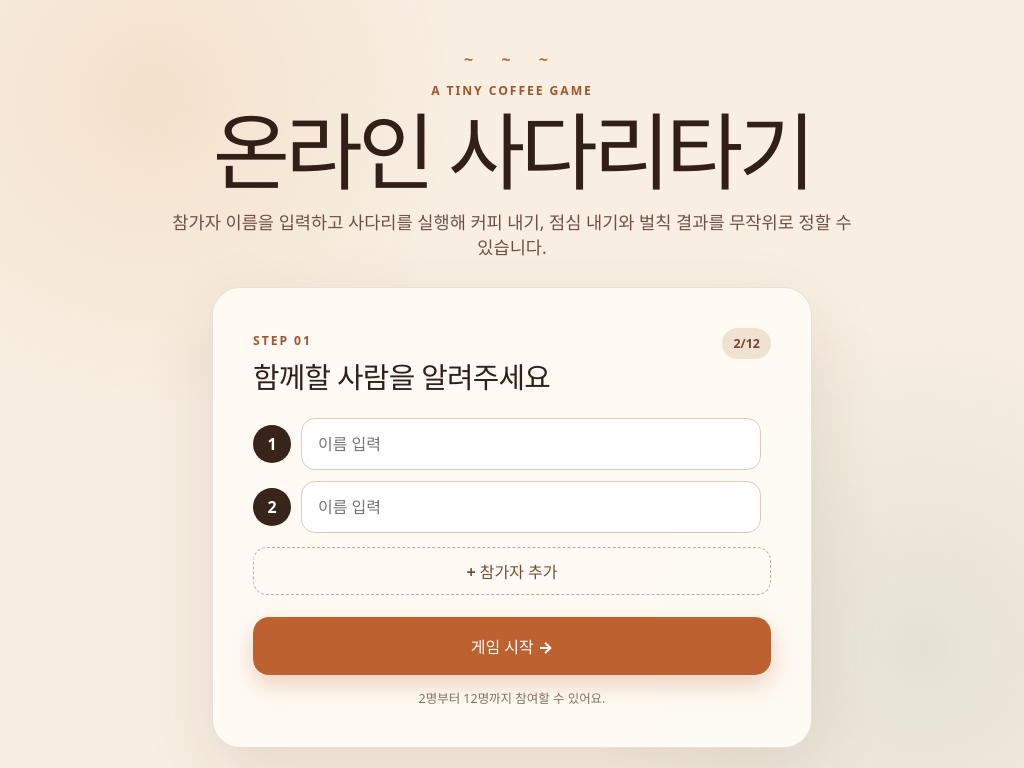
Test case: App › opens the routed game after participant setup at /ladder/
Type "Mina" into the 1st field with placeholder "이름 입력" at (531, 444), box x1=301 y1=418 x2=761 y2=470
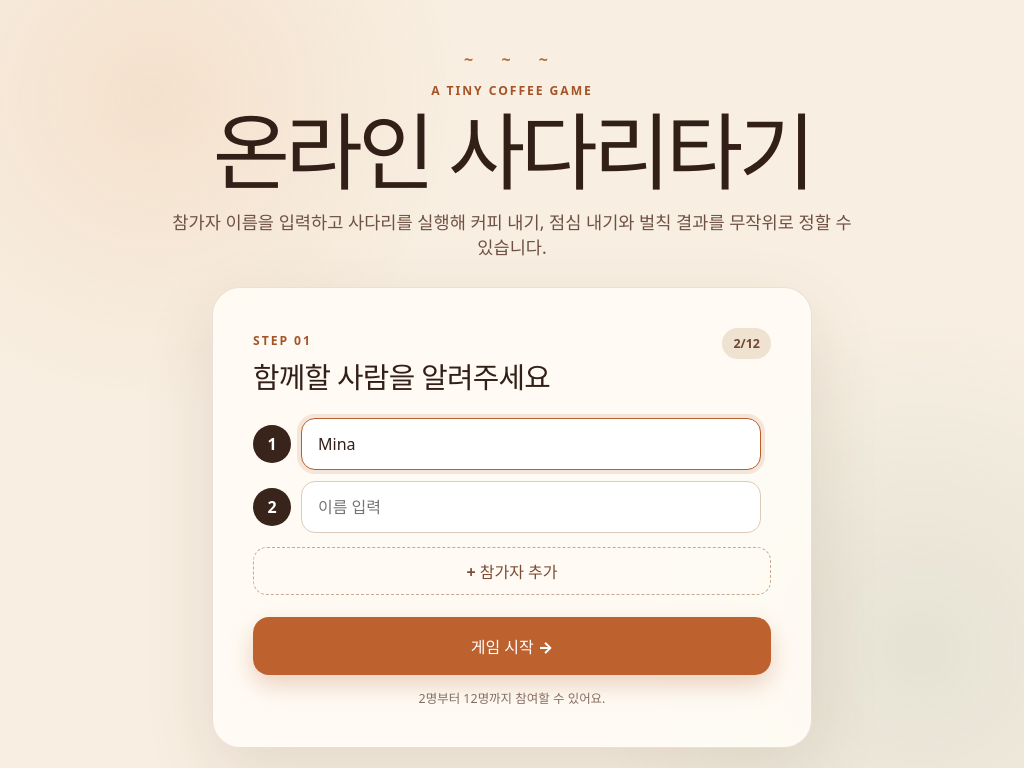
Type "Joon" into the field with placeholder "이름 입력" at (531, 507), box x1=301 y1=481 x2=761 y2=533
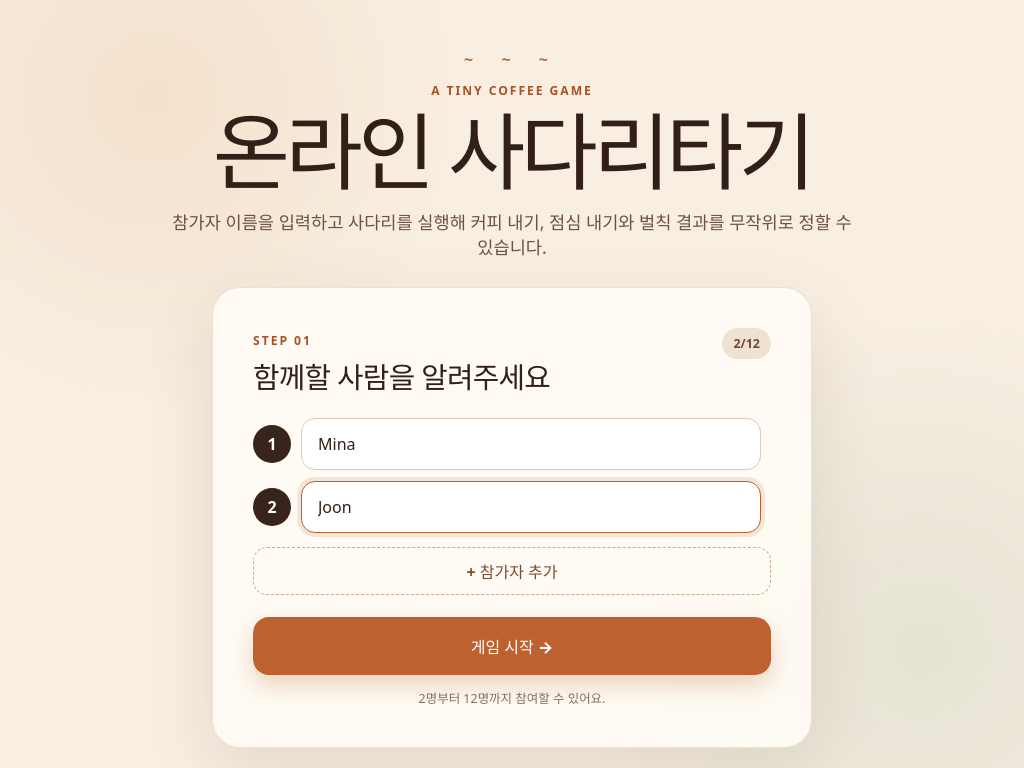
Click the button "게임 시작 →" at (512, 646), box x1=253 y1=617 x2=771 y2=675
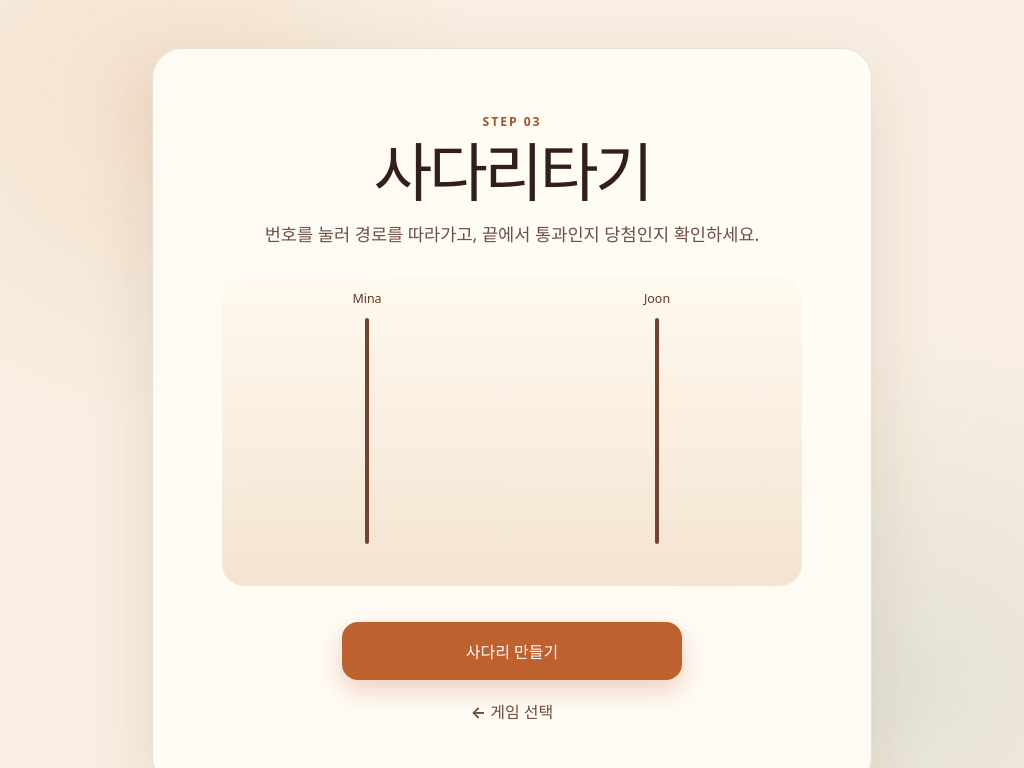
Check: the heading "사다리타기" is shown, box x1=374 y1=128 x2=650 y2=215
Check: the button "사다리 만들기" is shown, box x1=342 y1=622 x2=682 y2=680
